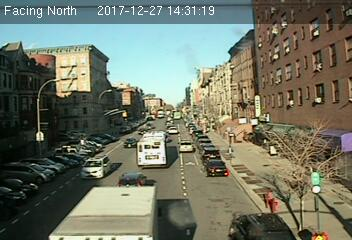bus: (136, 130, 168, 167)
car: (228, 214, 290, 240), (80, 155, 113, 180), (117, 169, 148, 187), (203, 160, 228, 177), (177, 139, 195, 152)
